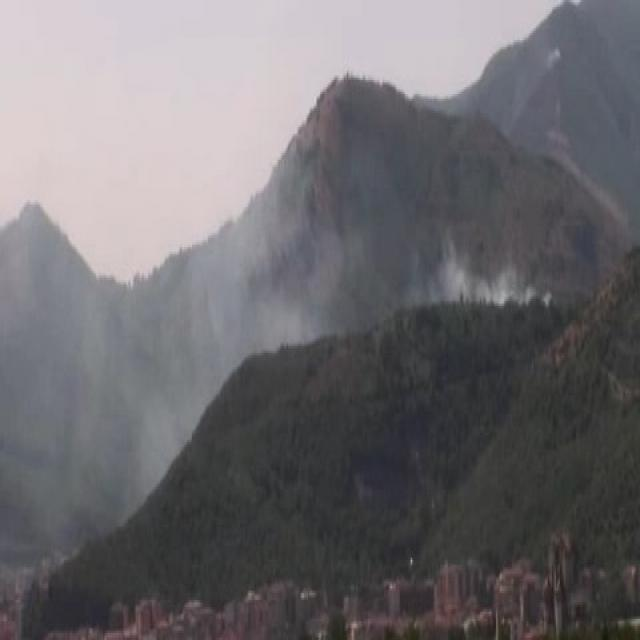smoke: (164, 180, 314, 355), (448, 260, 519, 302)
